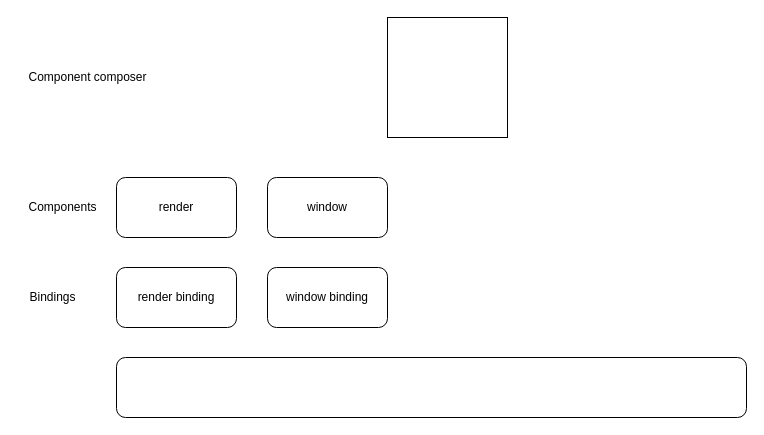
Image size: 764x435. Some labels were removed from this diagram. Each missing label, with the box of its shape:
KDA Engine: (386, 16, 508, 138)
scripts: (116, 356, 746, 418)
